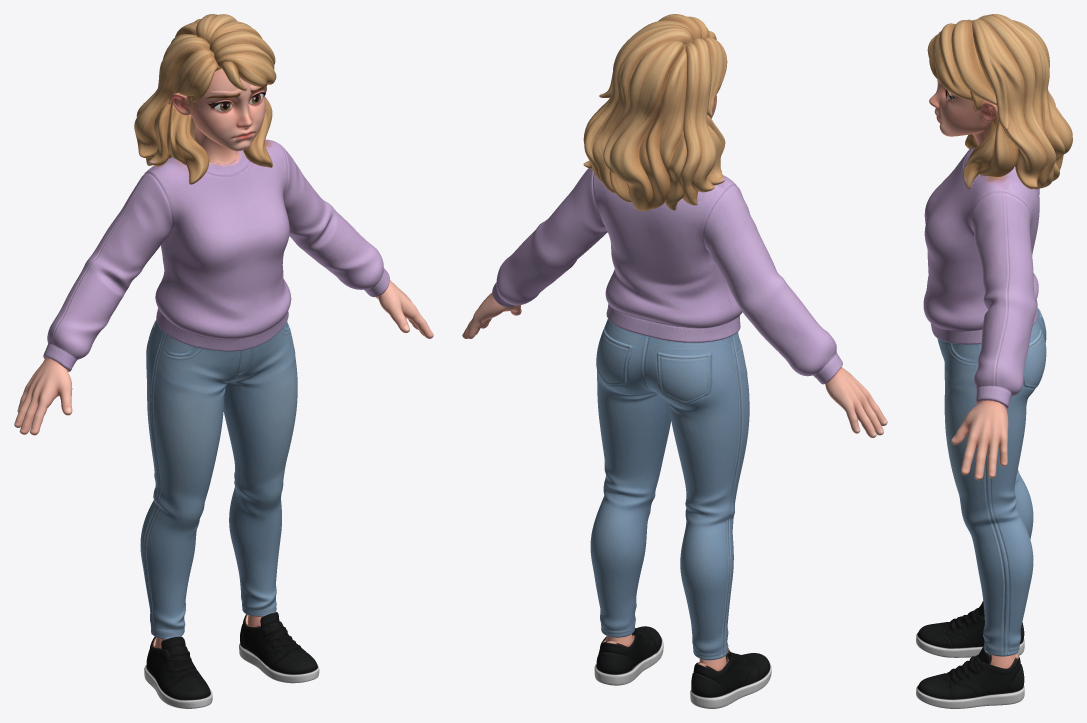
The model's file is sofi.glb.
The picture shows the model from 3 angles, left to right: view 1: azimuth 30°, elevation 25°; view 2: azimuth 150°, elevation 25°; view 3: azimuth 270°, elevation 25°; orthographic projection.
Bounding box in the file's own units: 1.25 × 1.9 × 0.4129.
1 material, 1 textured.
